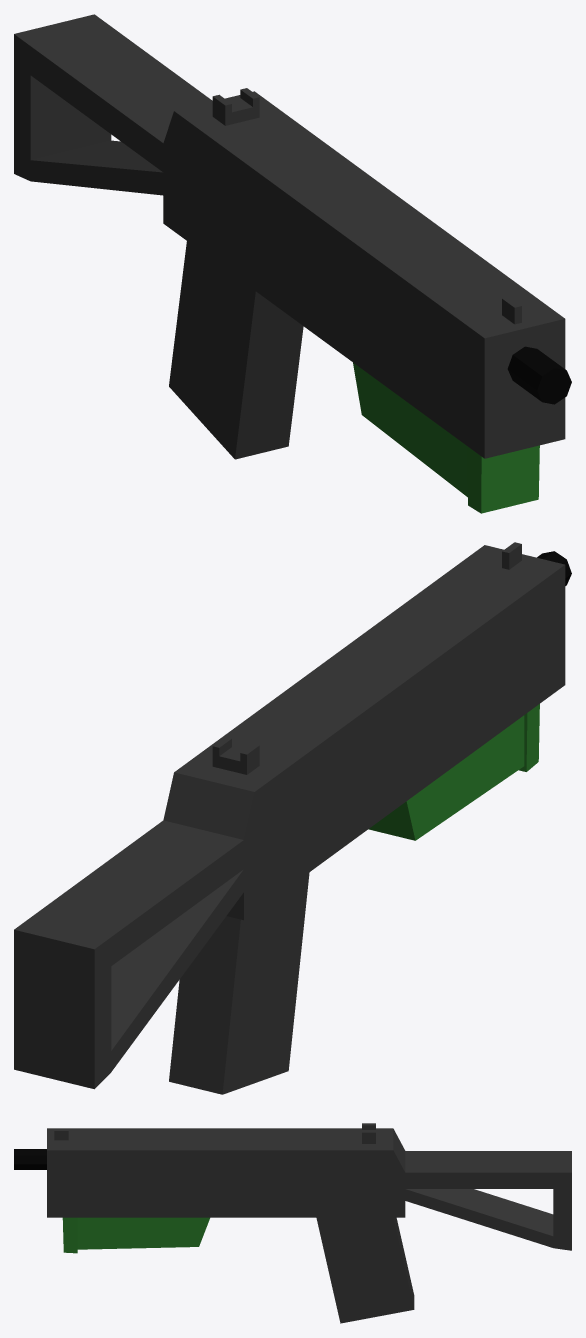
File: Bizon.fbx
3 views of the same model, one above another, from view 1: azimuth 30°, elevation 25°; view 2: azimuth 150°, elevation 25°; view 3: azimuth 270°, elevation 25° (orthographic). The views are drawn at different scales.
Parts seen in each view (by area): view 1: Cube.001, Cube, Cube.003, Cylinder, Cube.002; view 2: Cube.001, Cube, Cube.003, Cube.002; view 3: Cube.001, Cube, Cube.003, Cylinder, Cube.002.
Part boxes in pixels (x1,y1,x2,y2): Cube.001: (14,14,565,458); Cube: (169,241,303,459); Cube.003: (353,362,539,513); Cylinder: (507,346,571,404); Cube.002: (212,88,259,125); Cube.001: (14,545,565,1089); Cube: (169,872,309,1094); Cube.003: (368,704,539,840); Cube.002: (212,737,259,774); Cube.001: (47,1128,571,1250); Cube: (316,1217,414,1323); Cube.003: (62,1217,209,1253); Cylinder: (14,1149,46,1169); Cube.002: (362,1123,375,1143).
Bounding box in the file's own units: 42 × 168 × 452.
